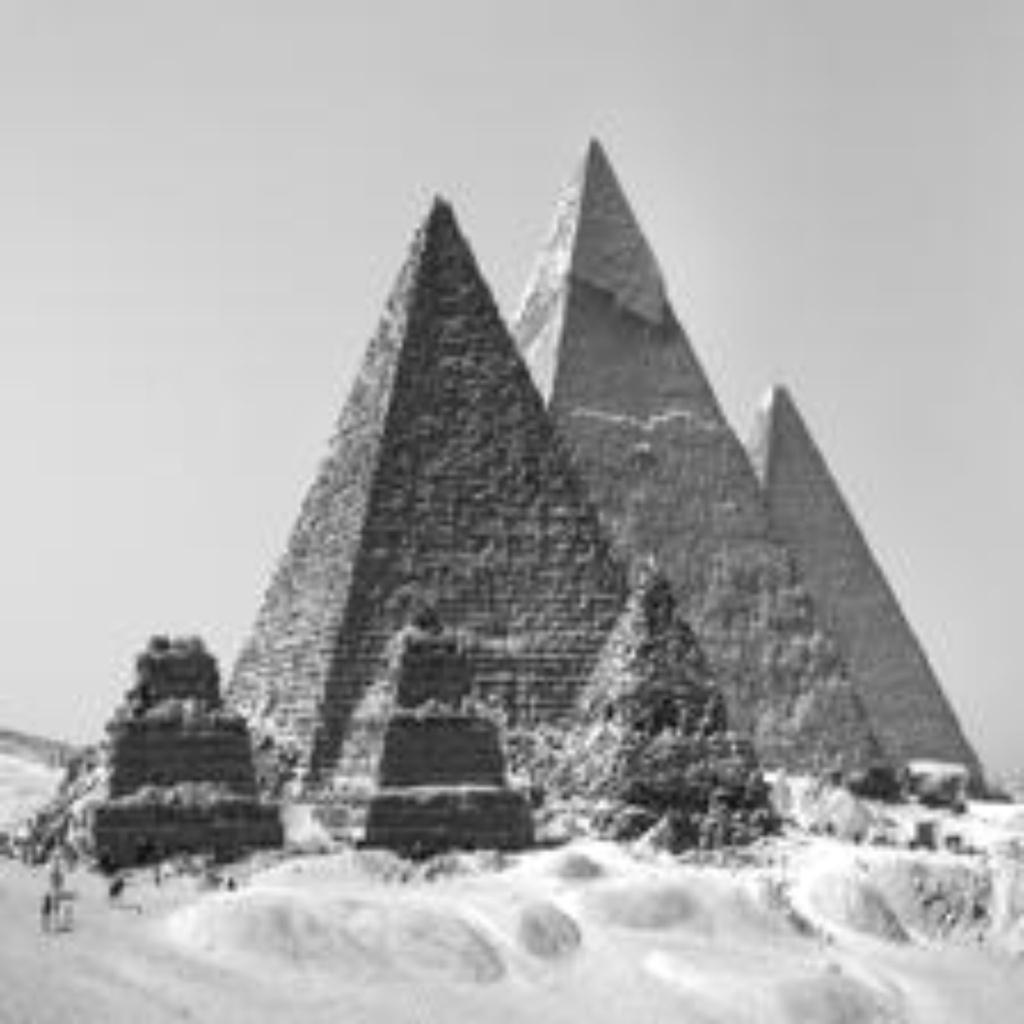Great Pyramids of Giza: (214, 138, 1000, 856)
